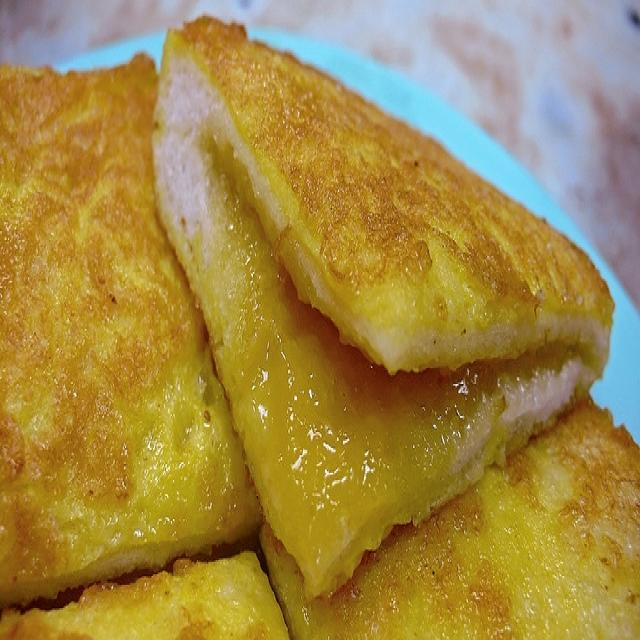面包点心: (12, 21, 604, 626)
